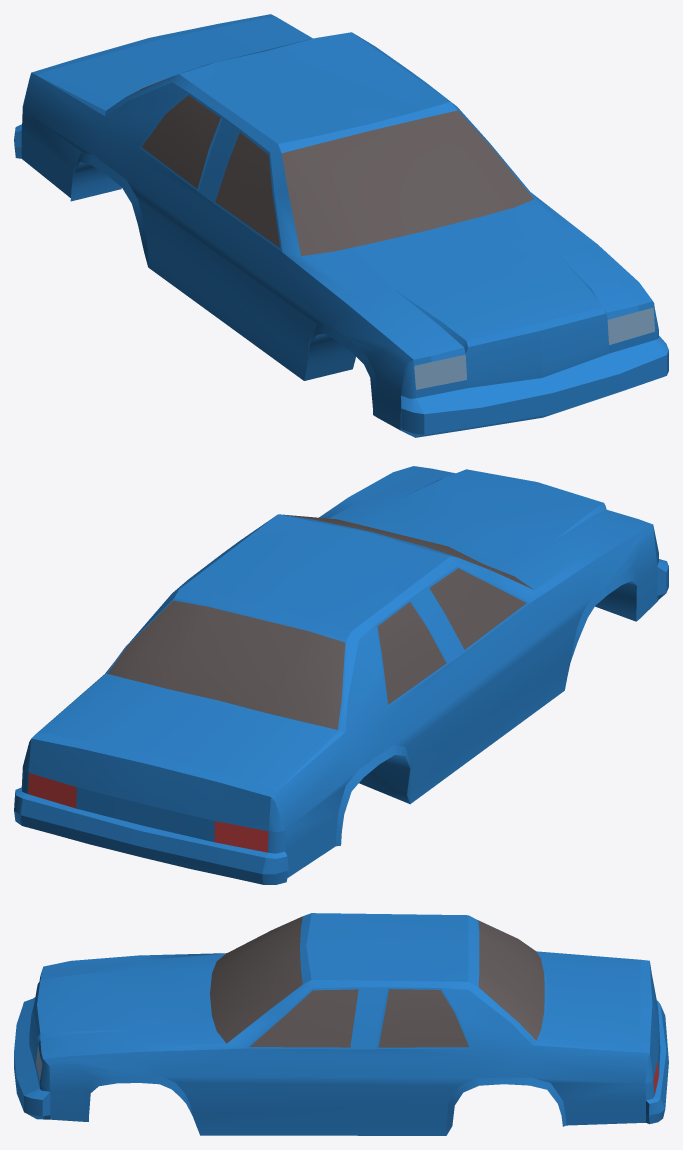
Rendered from Car_body.fbx.
3 views of the same model, one above another, from view 1: azimuth 30°, elevation 25°; view 2: azimuth 150°, elevation 25°; view 3: azimuth 270°, elevation 25° (orthographic). The views are drawn at different scales.
Parts seen in each view (by area): view 1: Car_body; view 2: Car_body; view 3: Car_body.
Boxes of the visible parts, <box> form: Car_body: <box>14,14,668,437</box>; Car_body: <box>14,466,668,884</box>; Car_body: <box>14,913,668,1135</box>.
Size of the model in its own units: 0.2589 by 0.1587 by 0.6752.
